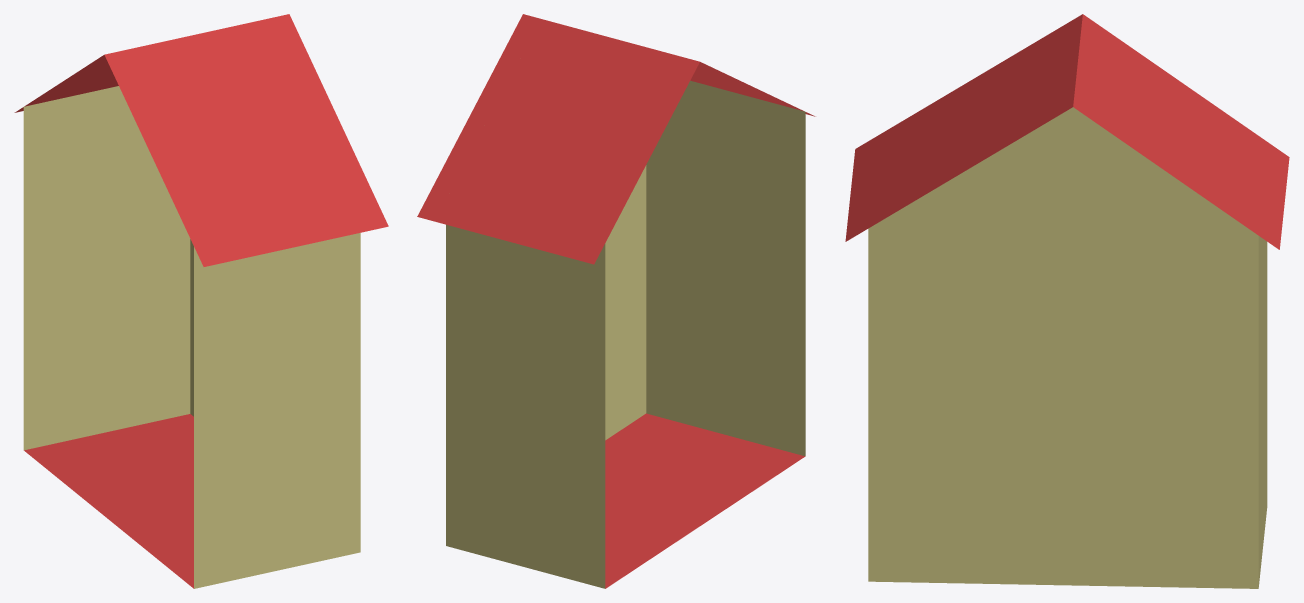
3 views of the same model, side by side, from view 1: azimuth 30°, elevation 25°; view 2: azimuth 150°, elevation 25°; view 3: azimuth 270°, elevation 25° (orthographic). The views are drawn at different scales.
Size of the model in its own units: 5.43 by 10.07 by 12.2.
